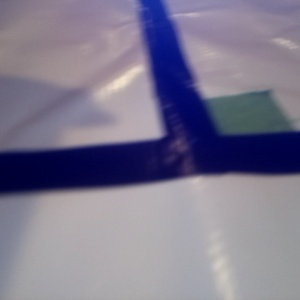top_right: (167, 67, 300, 173)
